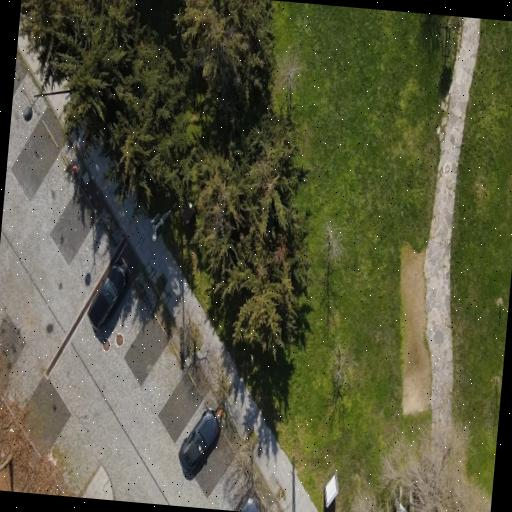car: (178, 408, 219, 474), (87, 263, 125, 328), (237, 495, 259, 511)
